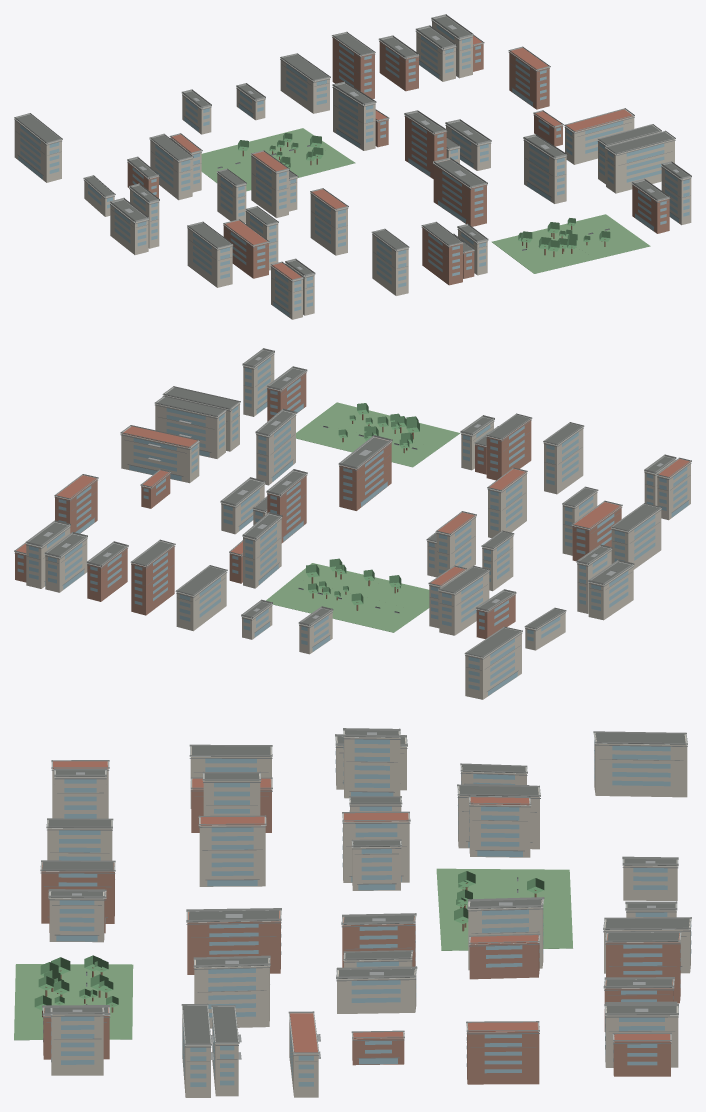
3 views of the same model, one above another, from view 1: azimuth 30°, elevation 25°; view 2: azimuth 150°, elevation 25°; view 3: azimuth 270°, elevation 25° (orthographic). The views are drawn at different scales.
Visible parts, largest first — view 1: neighborhood-park-block-822-mesh-5, neighborhood-park-block-791-mesh-0, building-1790-mesh-207, building-1729-mesh-127, building-1737-mesh-172, building-1730-mesh-133, building-1734-mesh-156, building-1599-mesh-21, building-1669-mesh-84, building-1609-mesh-74, building-1673-mesh-105, building-1731-mesh-139 (+46 smaller); view 2: neighborhood-park-block-791-mesh-0, neighborhood-park-block-822-mesh-5, building-1788-mesh-195, building-1737-mesh-172, building-1729-mesh-127, building-1609-mesh-74, building-1789-mesh-201, building-1669-mesh-84, building-1668-mesh-79, building-1607-mesh-64, building-1599-mesh-21, building-1736-mesh-167 (+46 smaller); view 3: neighborhood-park-block-791-mesh-0, neighborhood-park-block-822-mesh-5, building-1609-mesh-74, building-1792-mesh-218, building-1729-mesh-127, building-1672-mesh-100, building-1730-mesh-133, building-1787-mesh-189, building-1737-mesh-172, building-1603-mesh-42, building-1608-mesh-69, building-1733-mesh-150 (+59 smaller).
Part boxes in pixels (x1,y1,x2,y2): neighborhood-park-block-822-mesh-5: [491, 214, 650, 273]; neighborhood-park-block-791-mesh-0: [201, 128, 355, 191]; building-1790-mesh-207: [606, 139, 674, 193]; building-1729-mesh-127: [433, 159, 486, 226]; building-1737-mesh-172: [332, 37, 374, 98]; building-1730-mesh-133: [524, 139, 566, 203]; building-1734-mesh-156: [333, 86, 375, 150]; building-1599-mesh-21: [187, 227, 232, 287]; building-1669-mesh-84: [422, 227, 462, 285]; building-1609-mesh-74: [14, 119, 61, 182]; building-1673-mesh-105: [251, 155, 288, 217]; building-1731-mesh-139: [405, 115, 446, 178]; neighborhood-park-block-791-mesh-0: [266, 563, 429, 632]; neighborhood-park-block-822-mesh-5: [296, 402, 460, 467]; building-1788-mesh-195: [121, 434, 199, 483]; building-1737-mesh-172: [131, 546, 174, 615]; building-1729-mesh-127: [339, 437, 391, 510]; building-1609-mesh-74: [465, 632, 521, 699]; building-1789-mesh-201: [155, 404, 225, 458]; building-1669-mesh-84: [486, 419, 531, 480]; building-1668-mesh-79: [544, 427, 583, 494]; building-1607-mesh-64: [439, 571, 489, 635]; building-1599-mesh-21: [611, 509, 661, 569]; building-1736-mesh-167: [176, 572, 226, 631]; neighborhood-park-block-791-mesh-0: [436, 868, 572, 950]; neighborhood-park-block-822-mesh-5: [14, 964, 133, 1040]; building-1609-mesh-74: [594, 733, 687, 797]; building-1792-mesh-218: [467, 1023, 539, 1084]; building-1729-mesh-127: [187, 910, 280, 974]; building-1672-mesh-100: [199, 817, 265, 886]; building-1730-mesh-133: [194, 958, 269, 1028]; building-1787-mesh-189: [51, 1008, 103, 1075]; building-1737-mesh-172: [606, 933, 680, 1003]; building-1603-mesh-42: [344, 731, 400, 798]; building-1608-mesh-69: [469, 798, 530, 857]; building-1733-mesh-150: [337, 969, 416, 1013].
Size of the model in its own units: 262 by 24.33 by 235.
